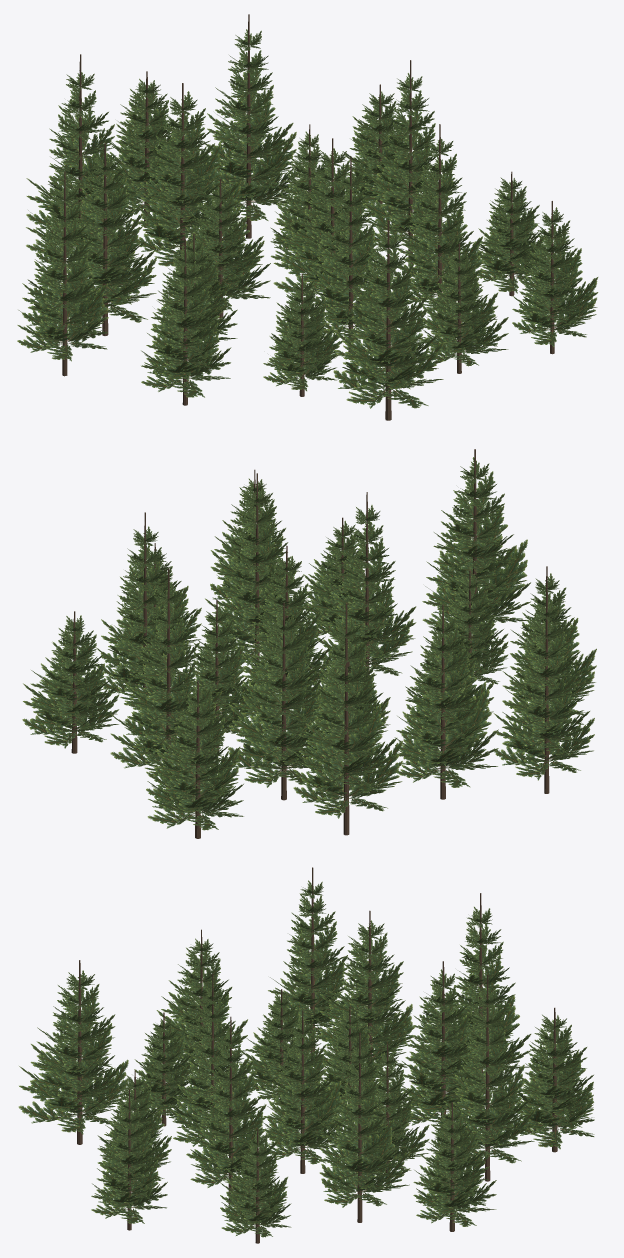
Rendered from forest-1.glb.
3 views of the same model, one above another, from view 1: azimuth 30°, elevation 25°; view 2: azimuth 150°, elevation 25°; view 3: azimuth 270°, elevation 25° (orthographic). The views are drawn at different scales.
Parts seen in each view (by area): view 1: forest-1; view 2: forest-1; view 3: forest-1.
Part boxes in pixels (x1=…): forest-1: x1=17, y1=14, x2=598, y2=420; forest-1: x1=22, y1=449, x2=596, y2=838; forest-1: x1=18, y1=867, x2=594, y2=1243.
Size of the model in its own units: 45.94 by 19.95 by 51.33.
2 materials, 1 textured.
